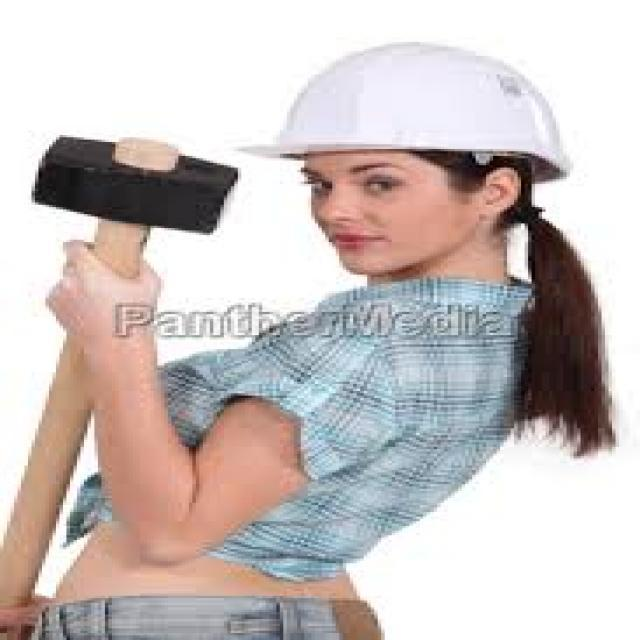hammer: (0, 128, 252, 640)
